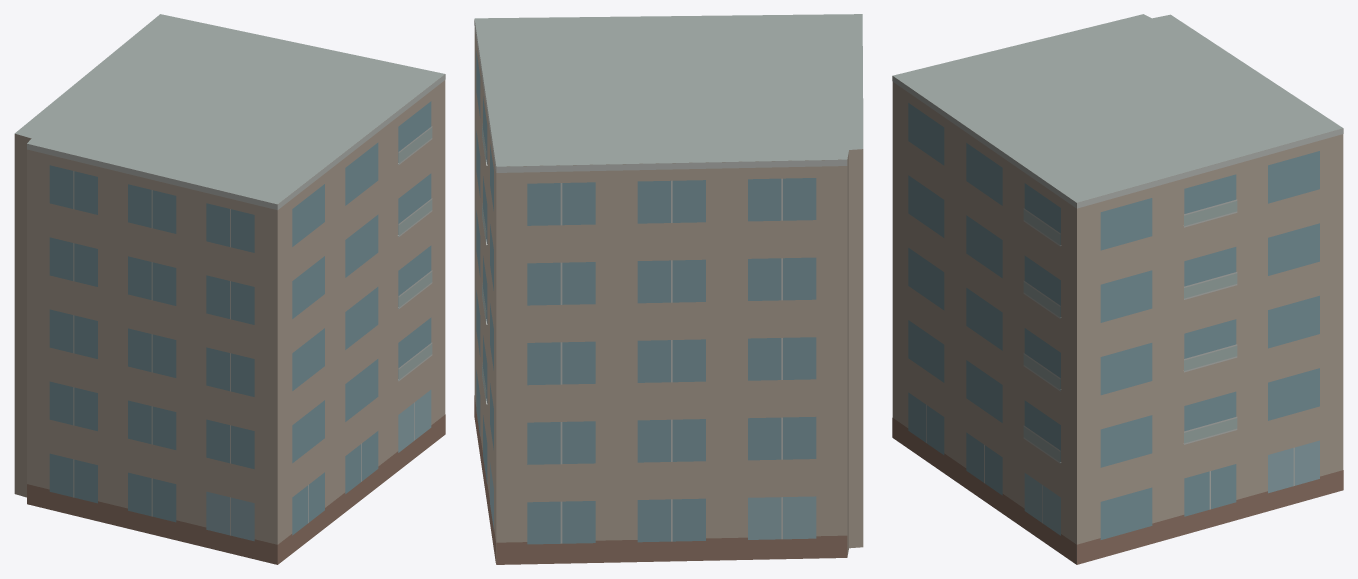
The model's file is survey-upis-32677831.glb.
3 views of the same model, side by side, from view 1: azimuth 30°, elevation 25°; view 2: azimuth 150°, elevation 25°; view 3: azimuth 270°, elevation 25° (orthographic). The views are drawn at different scales.
Parts seen in each view (by area): view 1: survey-upis-32677831.tmp; view 2: survey-upis-32677831.tmp; view 3: survey-upis-32677831.tmp.
Part boxes in pixels (x1,y1,x2,y2): survey-upis-32677831.tmp: (14, 14, 445, 564); survey-upis-32677831.tmp: (474, 14, 863, 564); survey-upis-32677831.tmp: (892, 14, 1343, 564).
Size of the model in its own units: 17.07 by 15.25 by 17.22.
